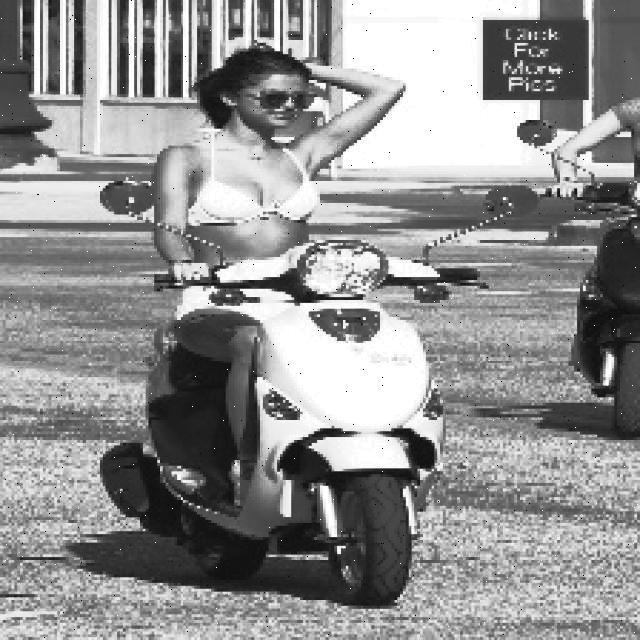Bike: (136, 245, 486, 611)
